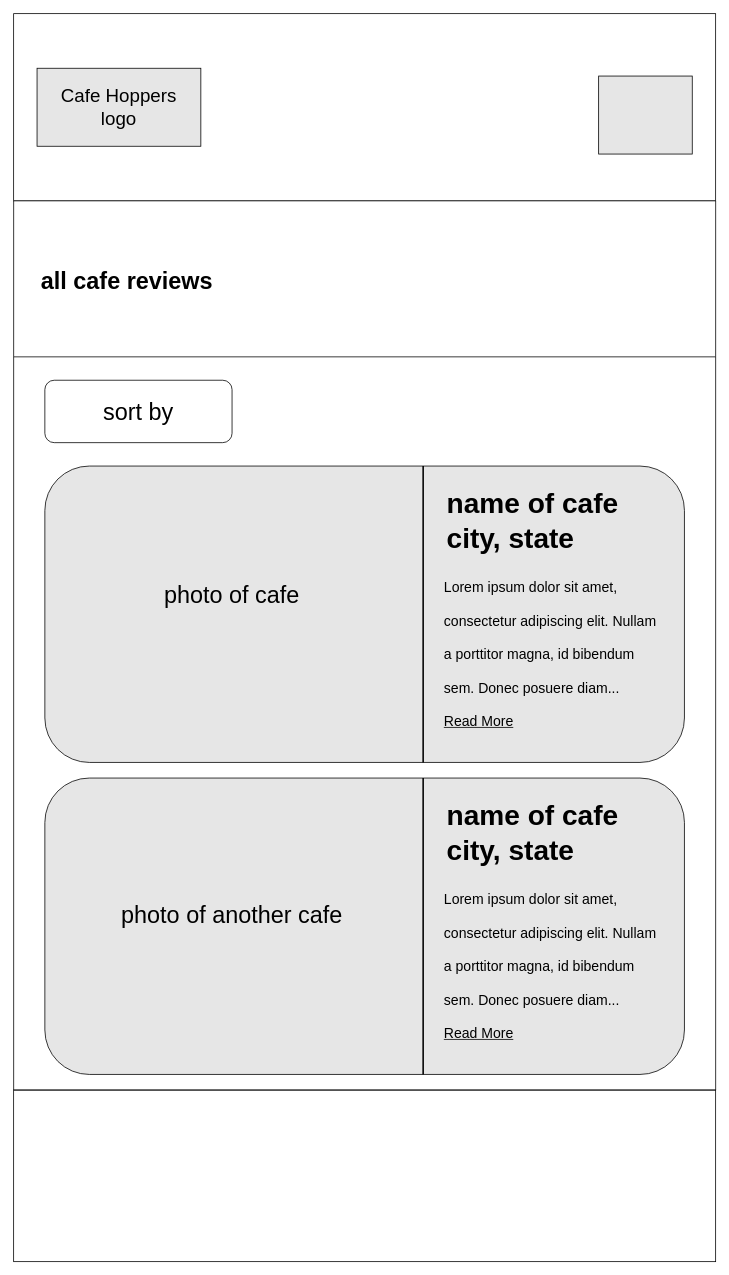
Image size: 729x1275. Some labels were removed from this diagram. The shapes that lost their labels are listed below. From the top down, each one's centre as x and y in pixels, then its label:
At point (645, 114): "menu icon".
At point (364, 1175): "footer content".
